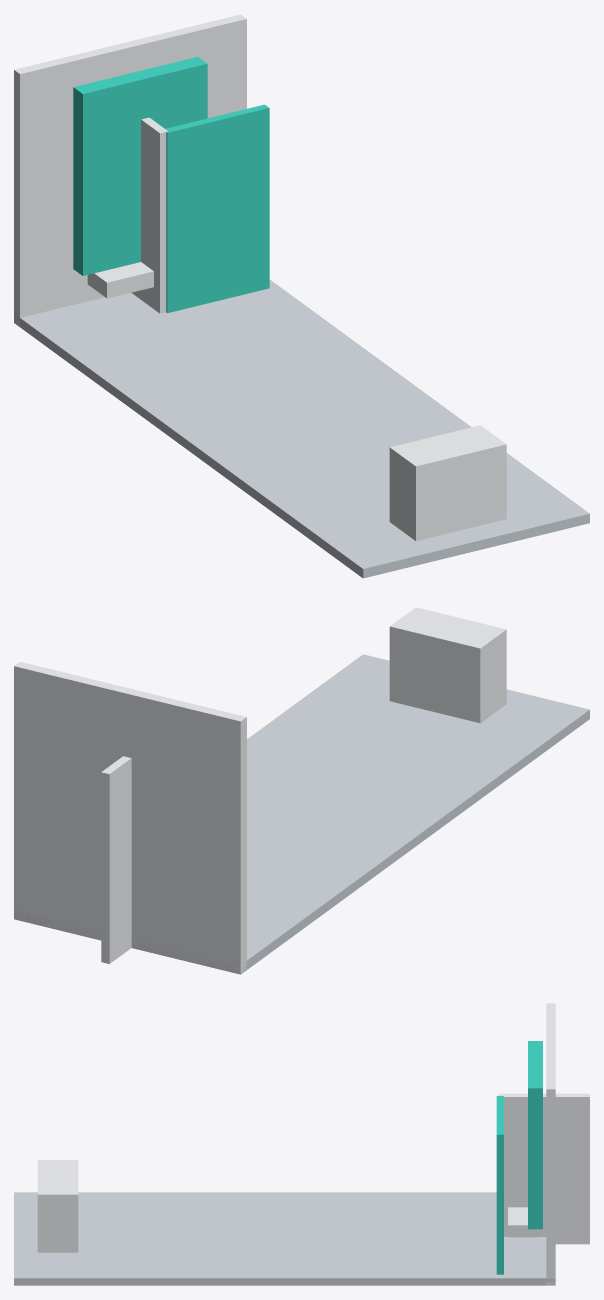
3 views of the same model, one above another, from view 1: azimuth 30°, elevation 25°; view 2: azimuth 150°, elevation 25°; view 3: azimuth 270°, elevation 25° (orthographic). The views are drawn at different scales.
Visible parts, largest first — view 1: Exhibition Booth Concept; view 2: Exhibition Booth Concept; view 3: Exhibition Booth Concept.
Part boxes in pixels (x1=…): Exhibition Booth Concept: x1=14, y1=14, x2=589, y2=578; Exhibition Booth Concept: x1=14, y1=607, x2=589, y2=974; Exhibition Booth Concept: x1=14, y1=1003, x2=589, y2=1285.
Size of the model in its own units: 3 by 3.2 by 8.51.
